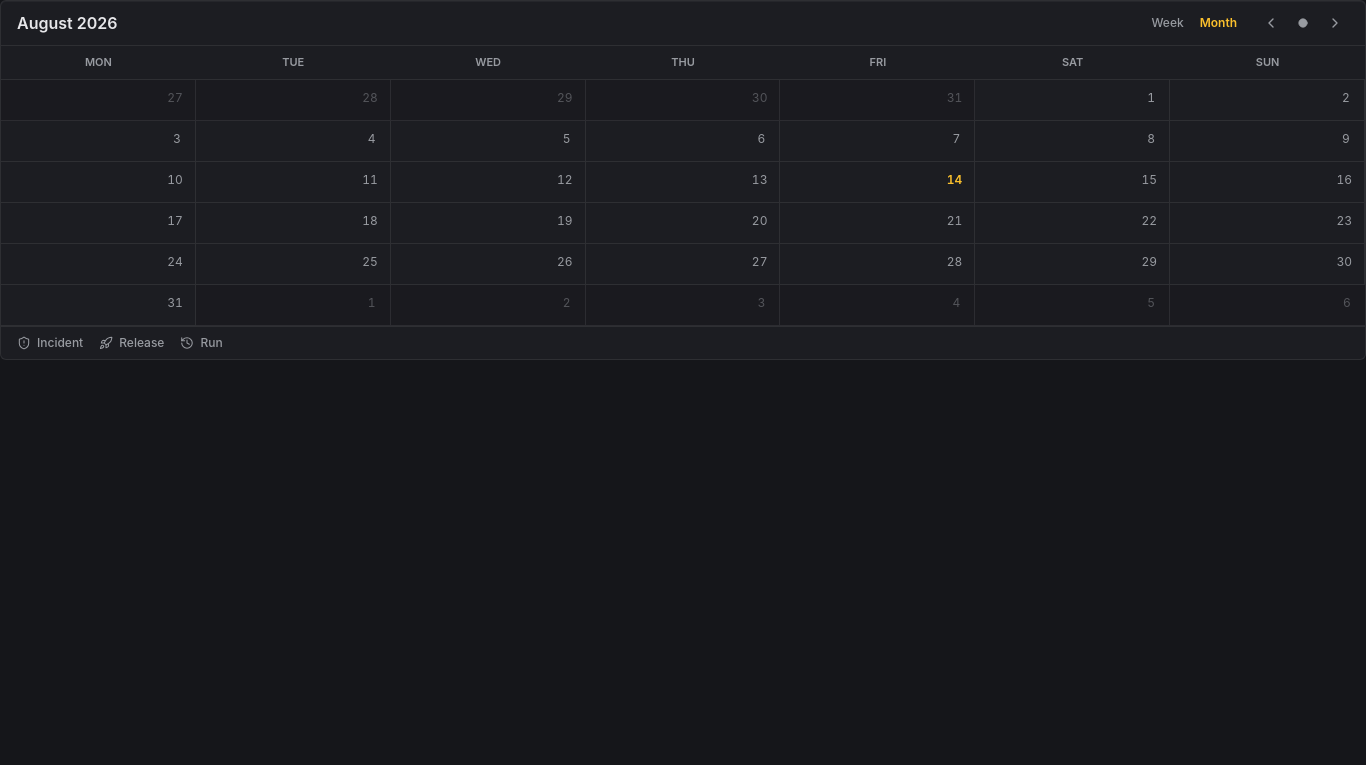
it: OperationsCalendar › switches to an hourly week and navigates seven days at a time
Click the button "Week" at point(1168, 23), box [1143,11,1192,35]
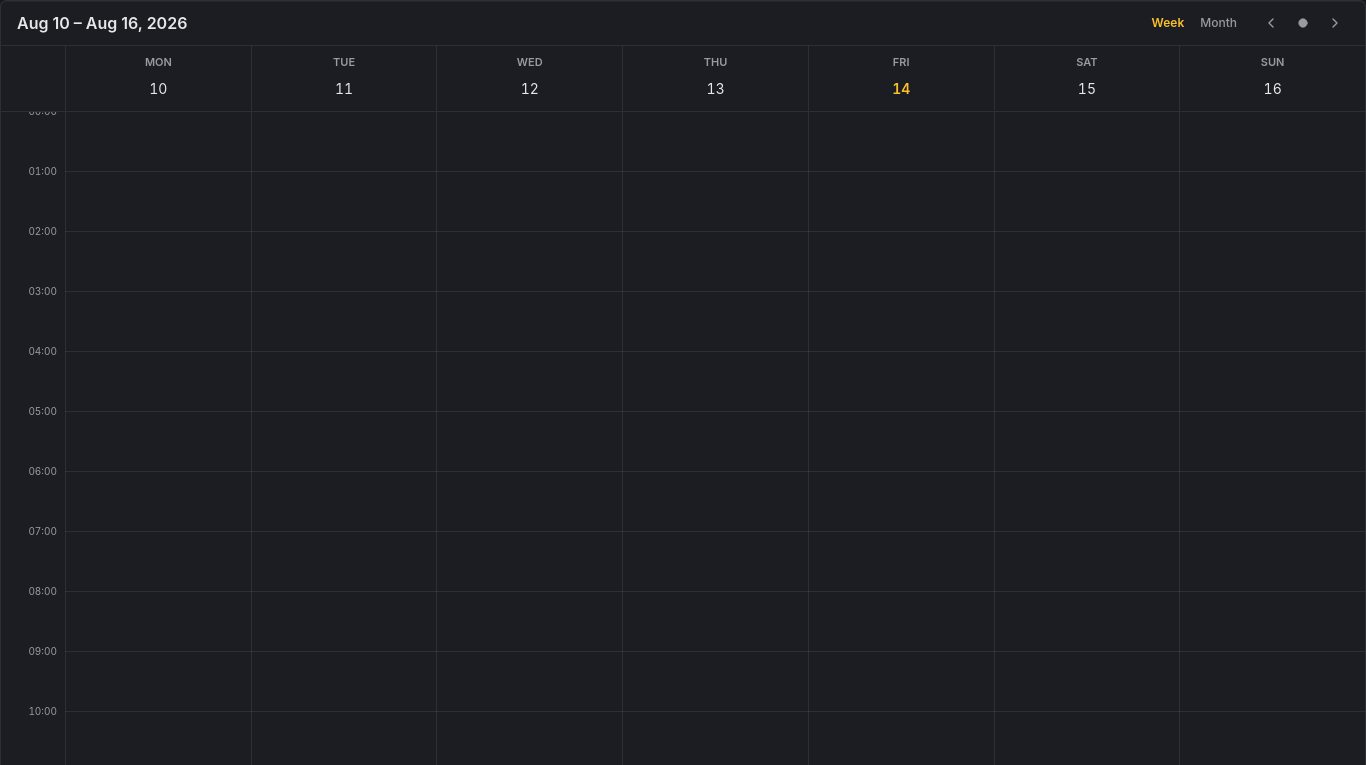
Now the heading "Aug 10 – Aug 16, 2026" is shown, box [17,13,187,33]
Click the button named "Next week" at point(1335, 23), box [1321,9,1349,37]
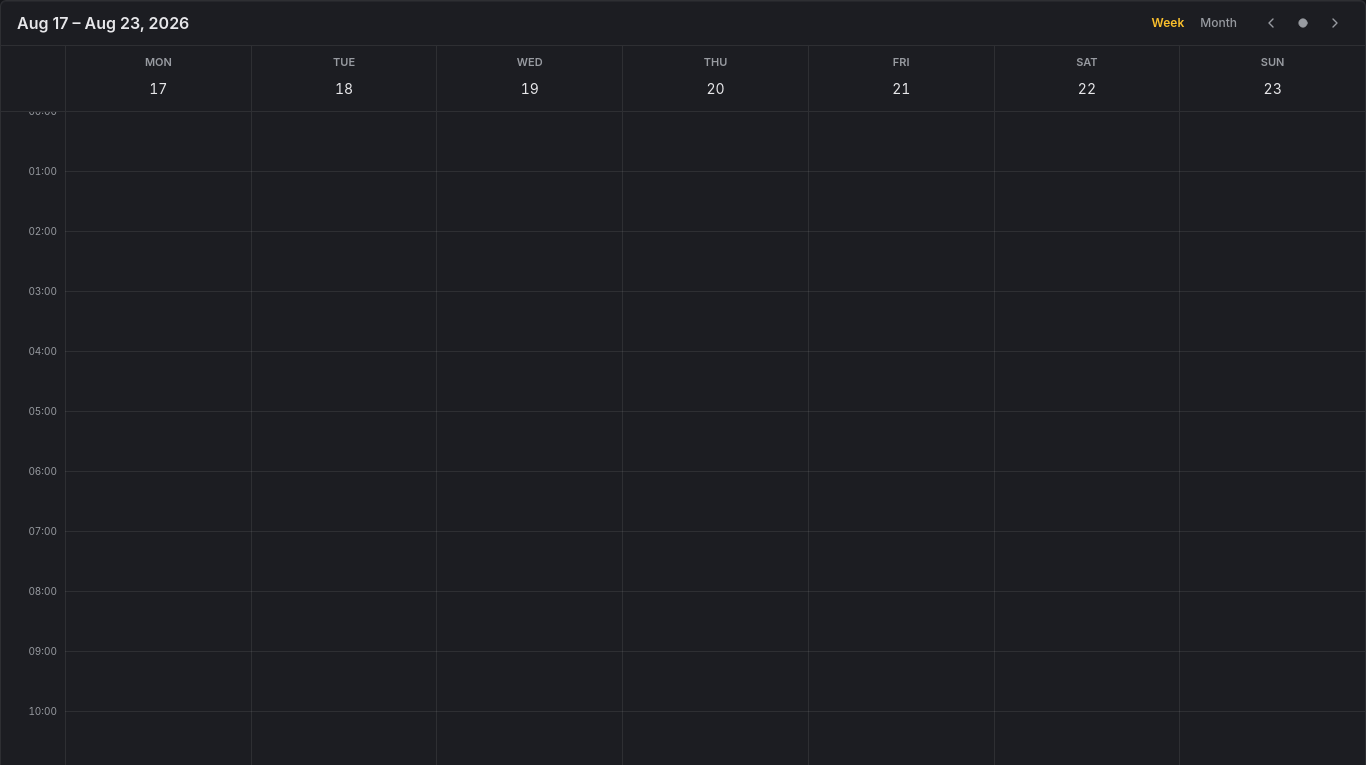
Expected: the button named "Today" is shown, [1289,9,1317,37]
Now the heading "Aug 17 – Aug 23, 2026" is shown, box [17,13,189,33]
